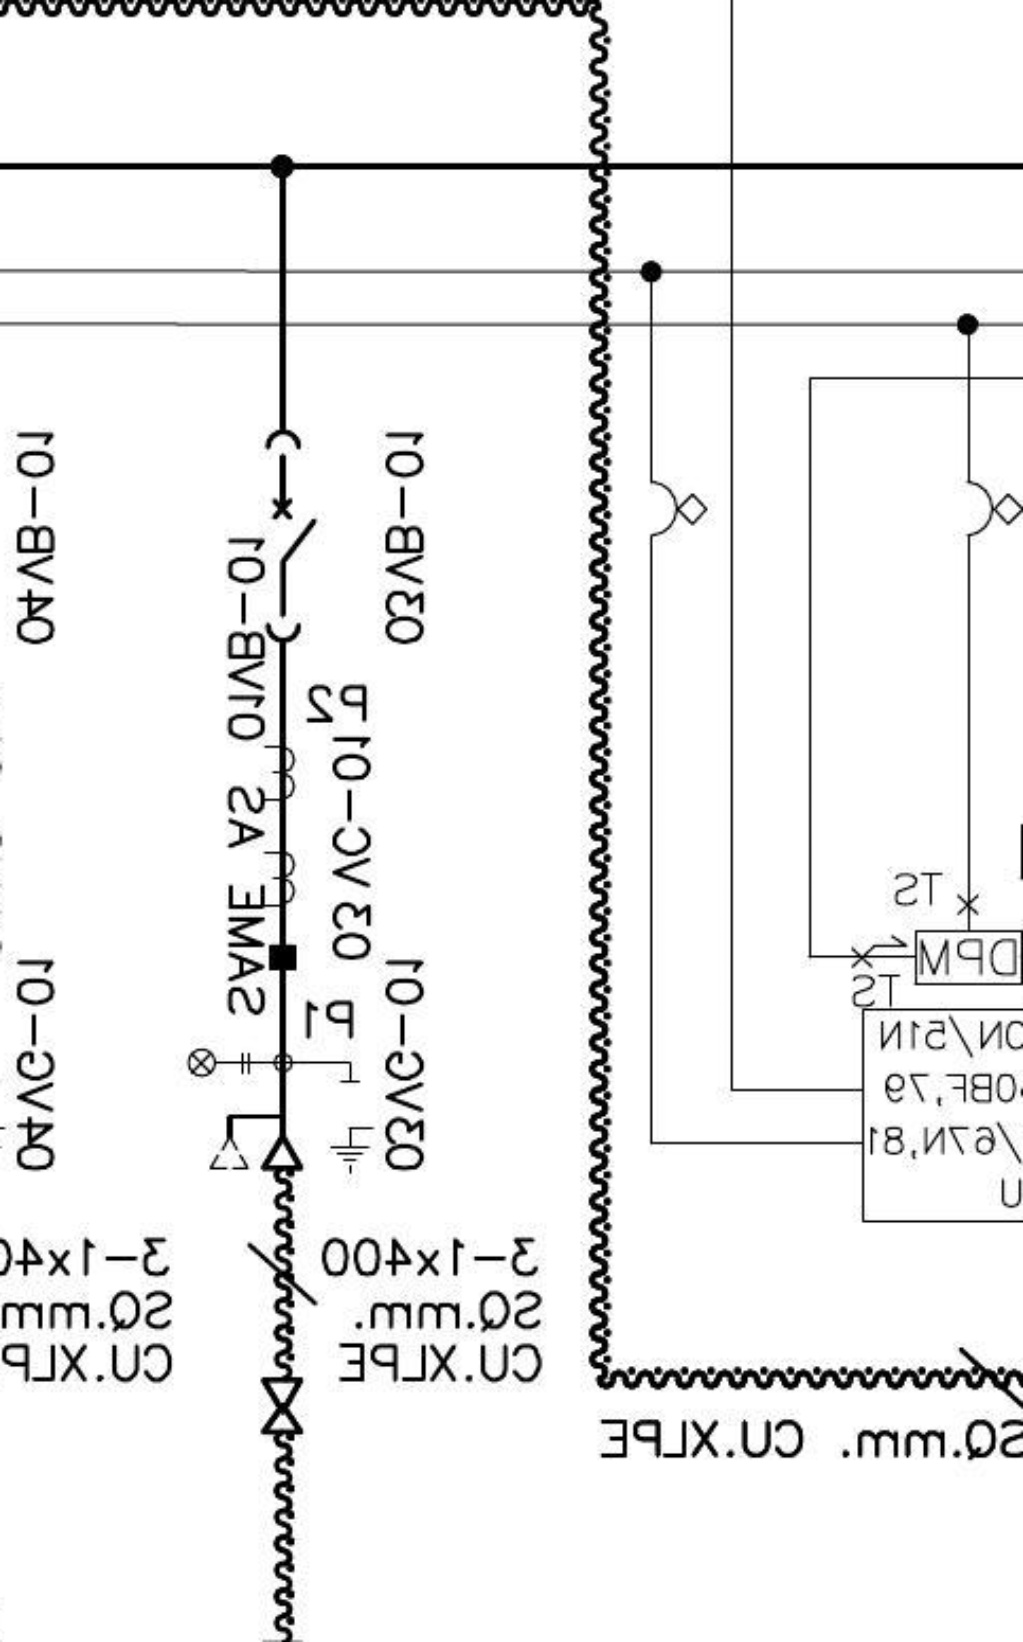22_breaker: (263, 428, 321, 645)
22_gs: (328, 1077, 377, 1174)
22_ll: (185, 1046, 252, 1079)
terminator_splicing_kits: (260, 1376, 305, 1435)
terminator_w_future: (205, 1111, 305, 1173)
